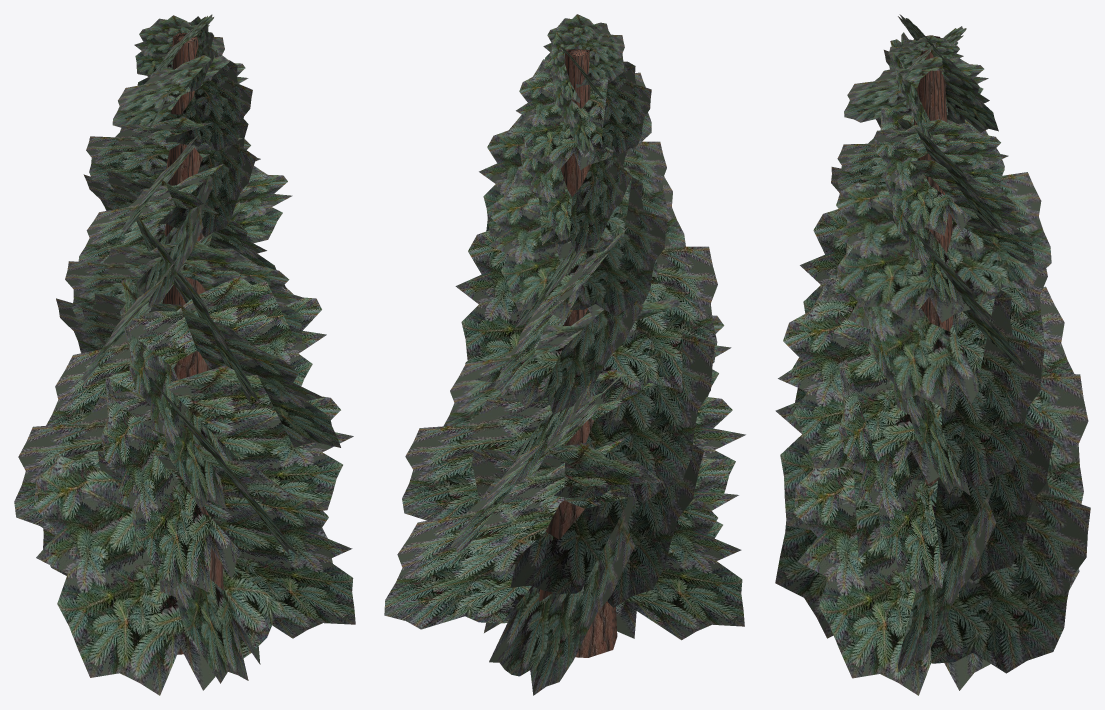
File: ctree_spruce_b.glb
The picture shows the model from 3 angles, left to right: view 1: azimuth 30°, elevation 25°; view 2: azimuth 150°, elevation 25°; view 3: azimuth 270°, elevation 25°; orthographic projection. The views are drawn at different scales.
Visible parts, largest first — view 1: leaf, woodBark; view 2: leaf, woodBark; view 3: leaf, woodBark.
Boxes of the visible parts, <box> form: leaf: <box>14,14,355,695</box>; woodBark: <box>162,33,223,654</box>; leaf: <box>384,14,745,695</box>; woodBark: <box>539,49,617,657</box>; leaf: <box>775,14,1090,695</box>; woodBark: <box>914,35,953,486</box>.
Bounding box in the file's own units: 0.5421 × 1.12 × 0.4978.
2 materials, 2 textured.
